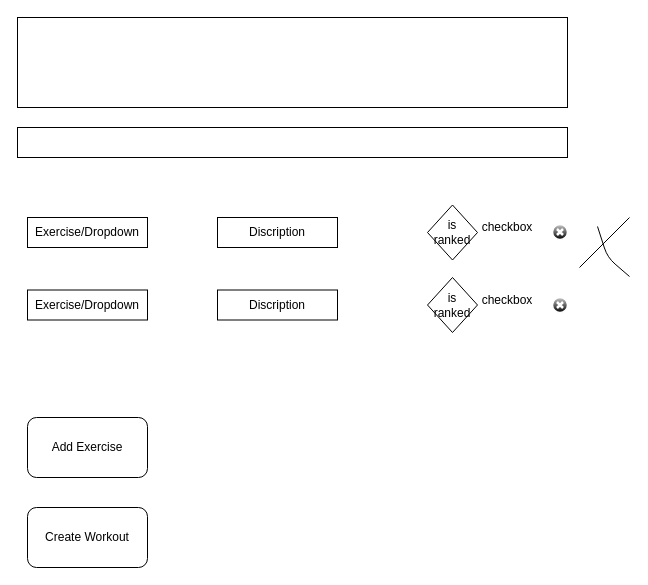
The diagram is 648 pixels wide and 585 high, and some of its shapes have lost their labels. The centre of each missing label's shape, as x and y in pixels:
Create new workout post: pixel 292 62
Title: pixel 292 142
